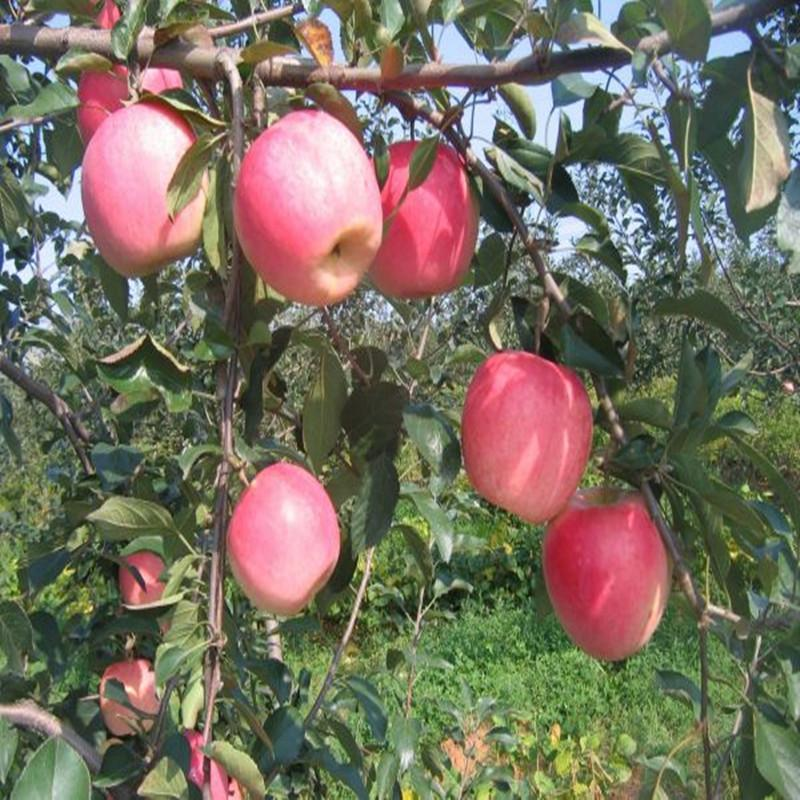apple: (231, 107, 385, 308), (543, 486, 678, 662), (457, 349, 589, 526), (76, 103, 203, 282), (226, 458, 342, 617), (367, 138, 477, 297)
